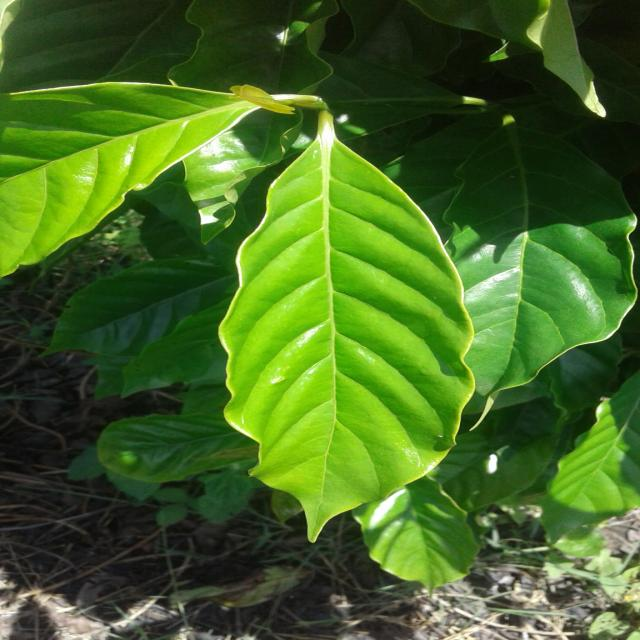Sanas: (217, 97, 477, 544)
